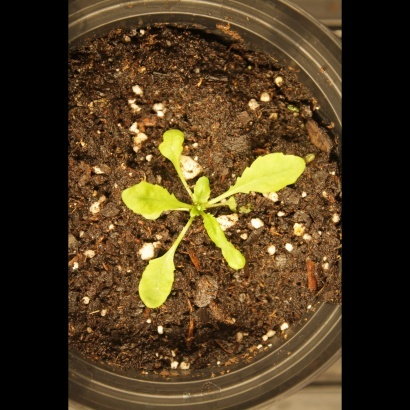leaf: (225, 147, 318, 204), (113, 174, 189, 226), (198, 207, 254, 275), (135, 241, 182, 318), (150, 112, 194, 175), (188, 172, 220, 212)
